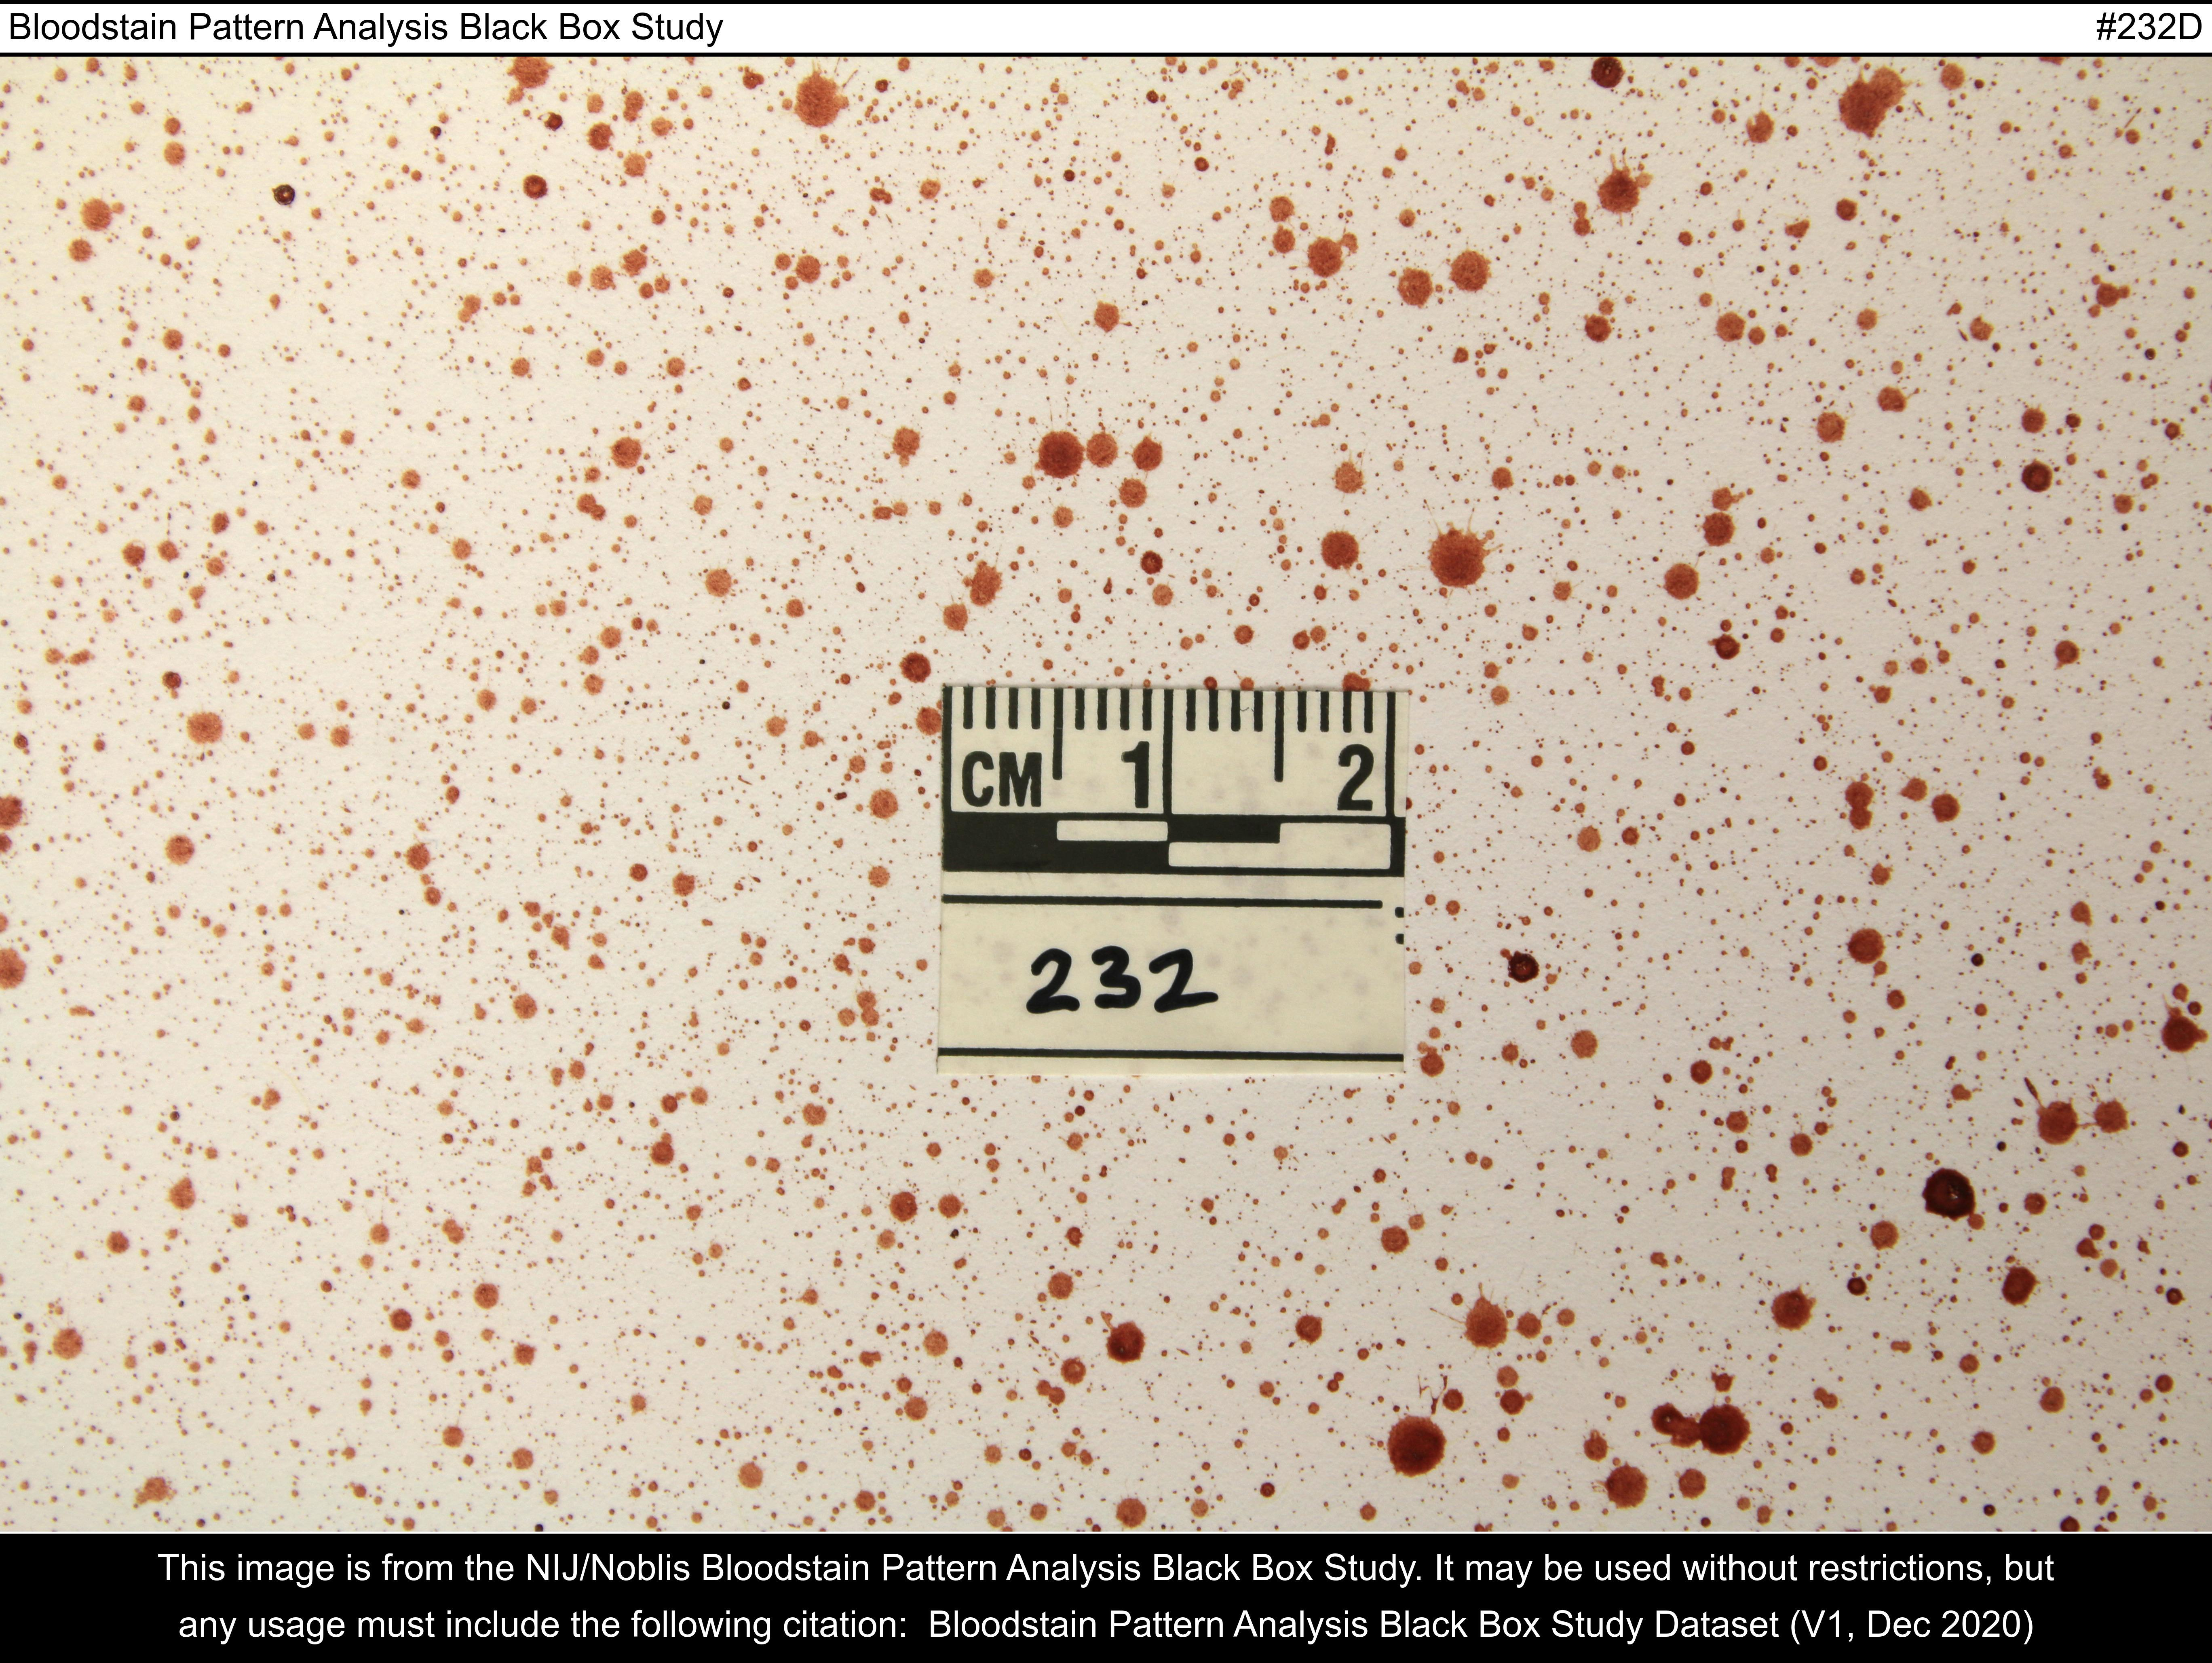Impact: (206, 255, 843, 1104), (986, 154, 2102, 606), (1337, 1034, 2174, 1480)
